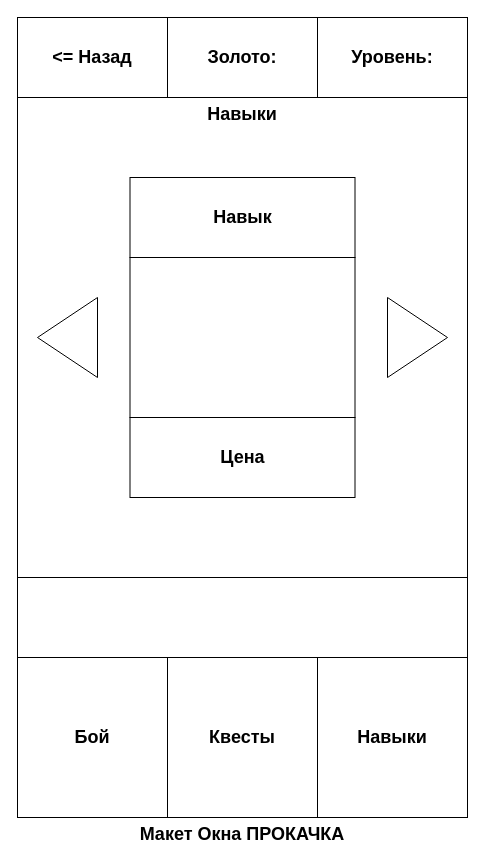
Some shapes in this 485 by 864 pixel diagram are drawn without their labels. Here are the shapes that lost their labels. From the top down, the centre of each, then its label:
(242,337): Описание навыка
(242,617): Прокачать
